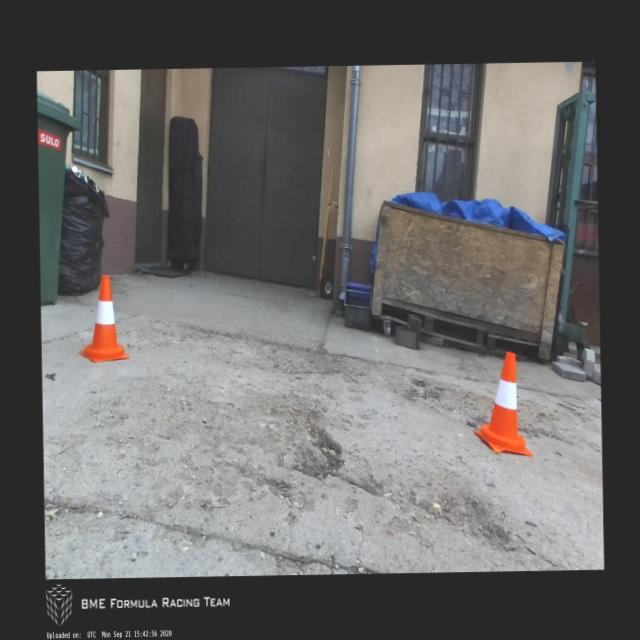orange_cone: (472, 352, 532, 458), (78, 276, 130, 362)
